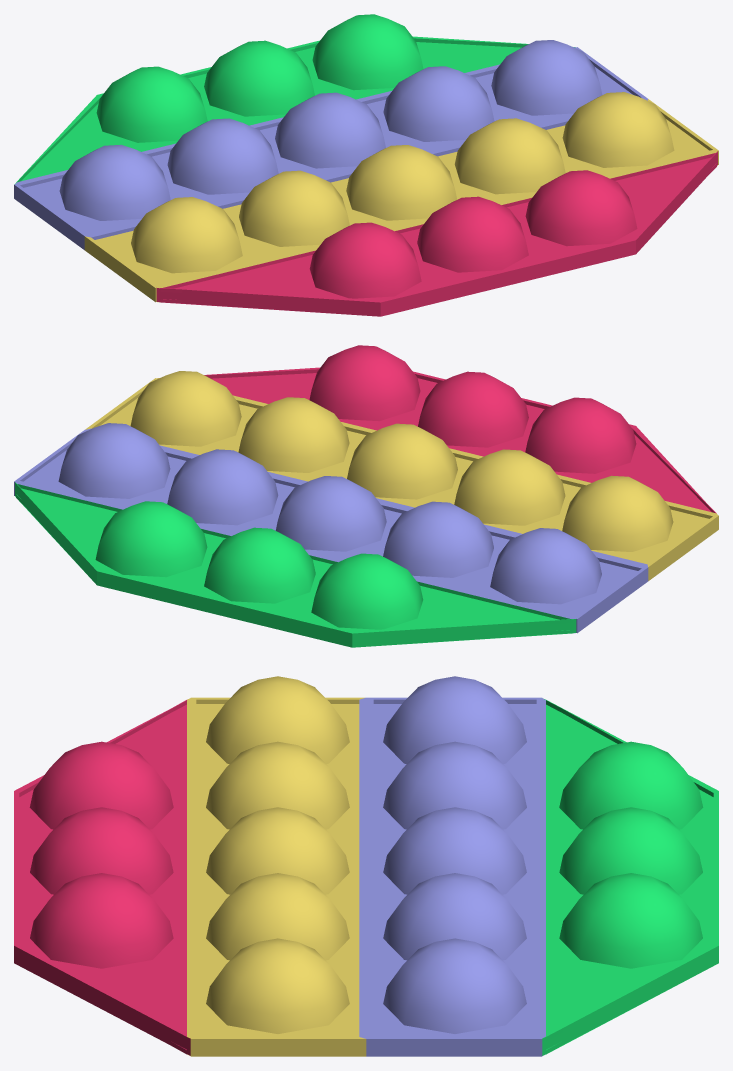
The model's file is Pop-it.fbx.
3 renders of one model, top to bottom at view 1: azimuth 30°, elevation 25°; view 2: azimuth 150°, elevation 25°; view 3: azimuth 270°, elevation 25°, orthographic. The views are drawn at different scales.
Visible parts, largest first — view 1: Sphere.004; view 2: Sphere.004; view 3: Sphere.004.
Part boxes in pixels (x1=…): Sphere.004: x1=14, y1=14, x2=718, y2=316; Sphere.004: x1=14, y1=345, x2=718, y2=647; Sphere.004: x1=14, y1=676, x2=718, y2=1056.
Bounding box in the file's own units: 1097 × 108 × 956.
